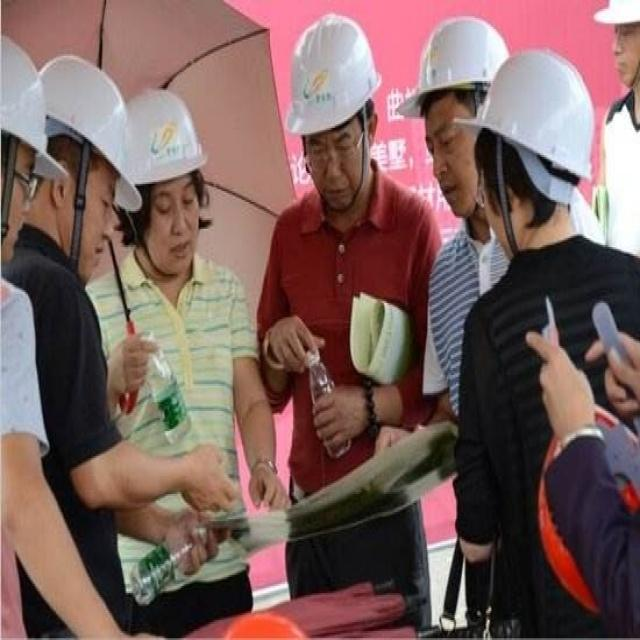helmet: (474, 54, 596, 326), (35, 70, 123, 378), (286, 15, 378, 278), (415, 17, 502, 287), (118, 115, 209, 360), (2, 48, 44, 356), (596, 3, 640, 120)
